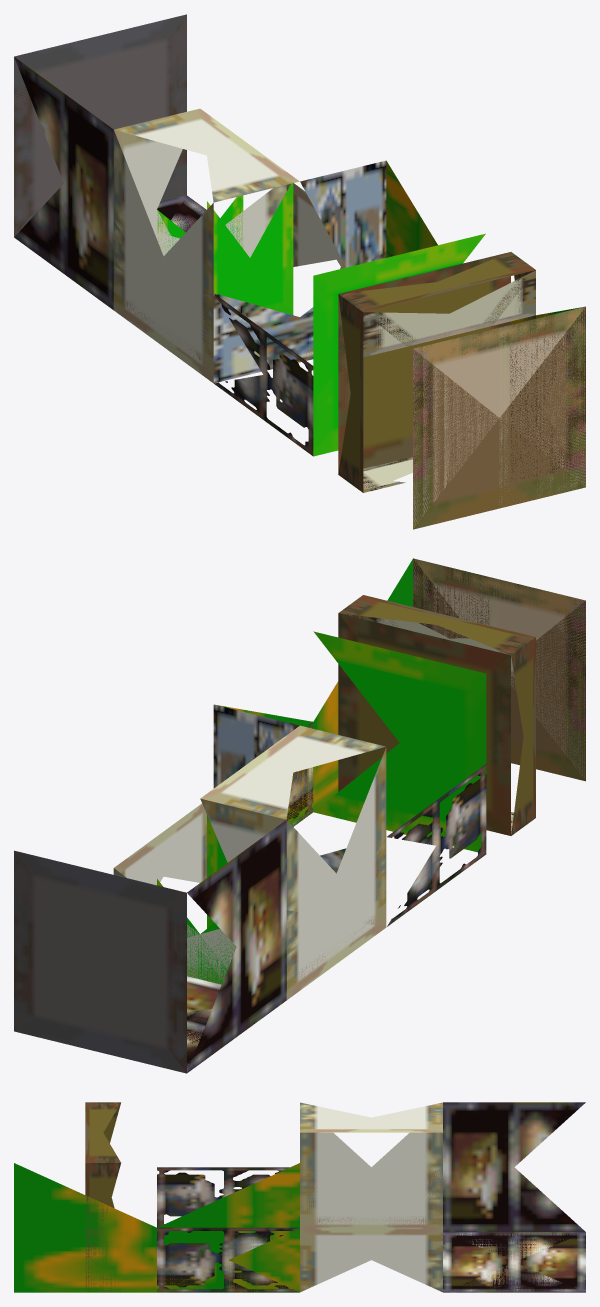
Rendered from town_geometry_type_12.obj.
The picture shows the model from 3 angles, top to bottom: view 1: azimuth 30°, elevation 25°; view 2: azimuth 150°, elevation 25°; view 3: azimuth 270°, elevation 25°; orthographic projection. The views are drawn at different scales.
Visible parts, largest first — view 1: face_list_000, face_list_020, face_list_018, face_list_017, face_list_029, face_list_009, face_list_006, face_list_002, face_list_013, face_list_021, face_list_014, face_list_004 (+5 smaller); view 2: face_list_029, face_list_014, face_list_017, face_list_018, face_list_030, face_list_020, face_list_002, face_list_000, face_list_009, face_list_013, face_list_021, face_list_006 (+5 smaller); view 3: face_list_013, face_list_018, face_list_017, face_list_002, face_list_006, face_list_003, face_list_007, face_list_022, face_list_020.
Boxes of the visible parts, box(x1,y1,x2,y2) form: face_list_000: box(413, 307, 585, 529); face_list_020: box(338, 252, 535, 492); face_list_018: box(113, 108, 299, 381); face_list_017: box(14, 57, 182, 309); face_list_029: box(14, 14, 186, 236); face_list_009: box(413, 306, 585, 529); face_list_006: box(157, 195, 386, 455); face_list_002: box(113, 185, 286, 383); face_list_013: box(300, 160, 584, 359); face_list_021: box(338, 252, 535, 470); face_list_014: box(313, 233, 485, 456); face_list_004: box(157, 183, 293, 314); face_list_029: box(14, 850, 186, 1073); face_list_014: box(313, 631, 486, 852); face_list_017: box(187, 798, 286, 1072); face_list_018: box(200, 725, 386, 999); face_list_030: box(14, 852, 186, 1073); face_list_020: box(338, 595, 535, 835); face_list_002: box(113, 838, 386, 1071); face_list_000: box(413, 558, 585, 781); face_list_009: box(414, 558, 585, 778); face_list_013: box(213, 559, 412, 825); face_list_021: box(339, 613, 514, 834); face_list_006: box(187, 764, 486, 1070); face_list_013: box(14, 1163, 299, 1292); face_list_018: box(300, 1102, 442, 1227); face_list_017: box(443, 1102, 585, 1231); face_list_002: box(300, 1168, 585, 1292); face_list_006: box(157, 1167, 585, 1292); face_list_003: box(300, 1227, 442, 1292); face_list_007: box(157, 1227, 299, 1292); face_list_022: box(85, 1163, 120, 1292); face_list_020: box(85, 1102, 120, 1208).
Size of the model in its own units: 64 by 64 by 256.
26 materials, 26 textured.
